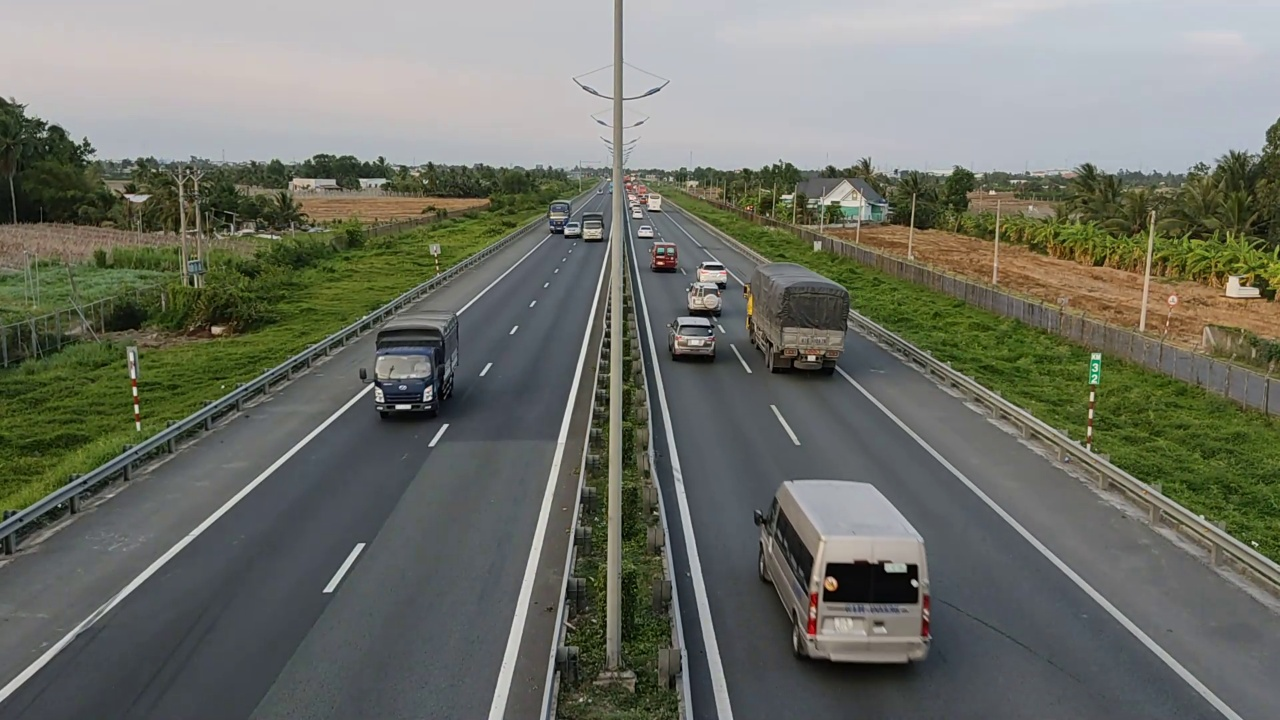bus: (745, 261, 851, 373)
car: (666, 315, 716, 360), (648, 241, 679, 272), (695, 262, 727, 291)
truck: (753, 477, 933, 665), (363, 307, 460, 419)
